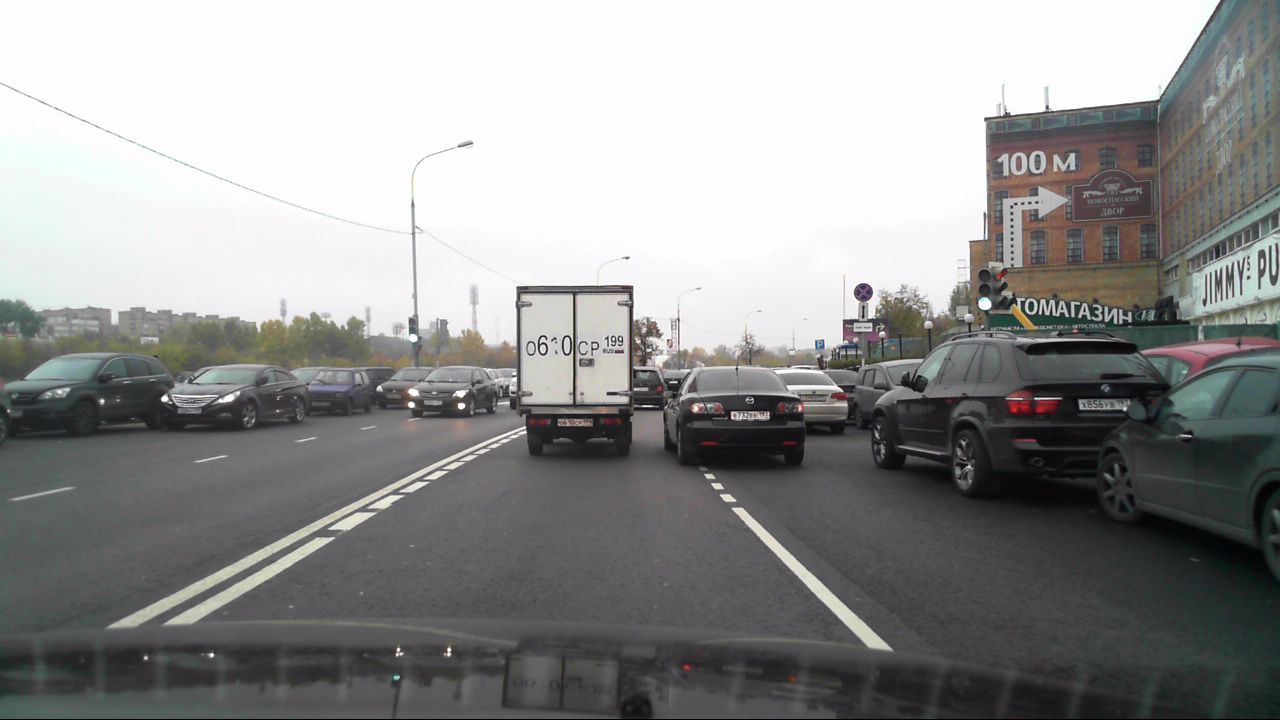No Parking: (852, 280, 873, 302)
